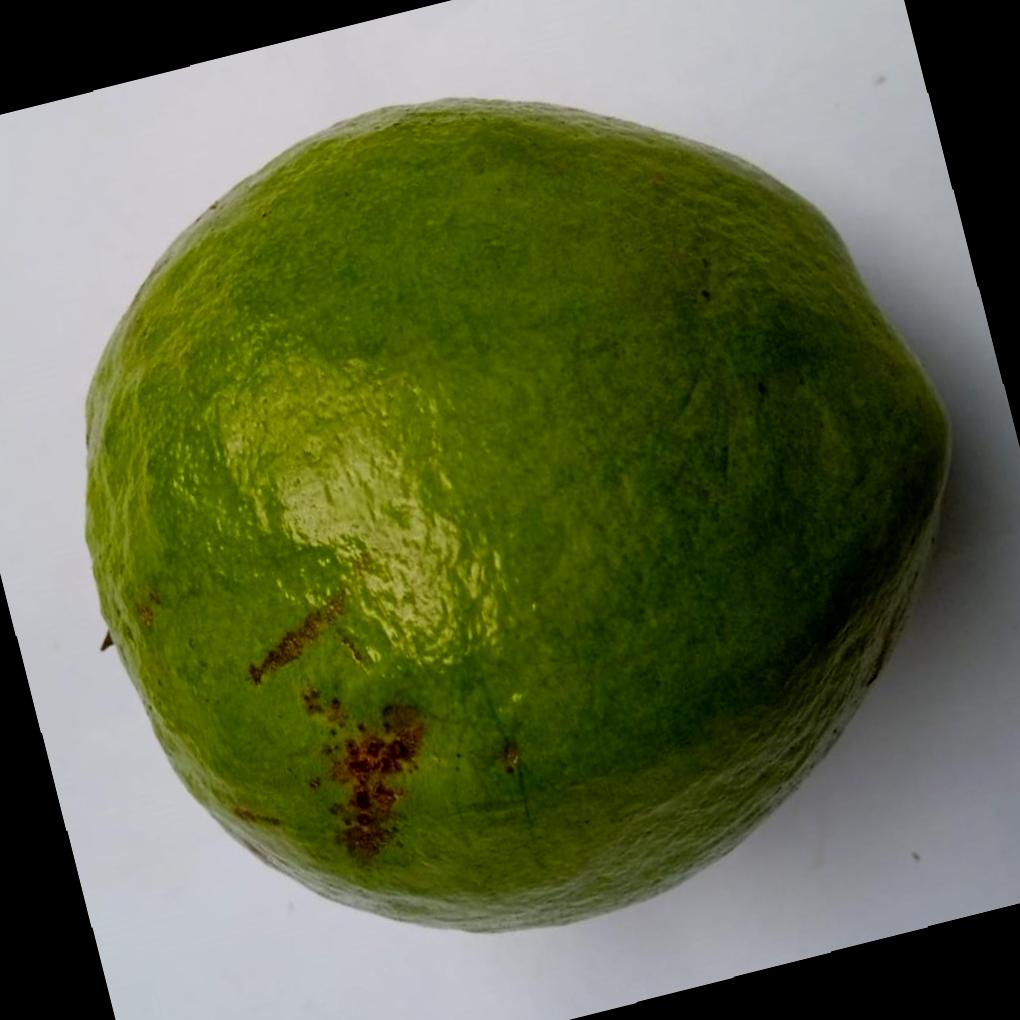FreshGuava: (86, 95, 958, 935)
